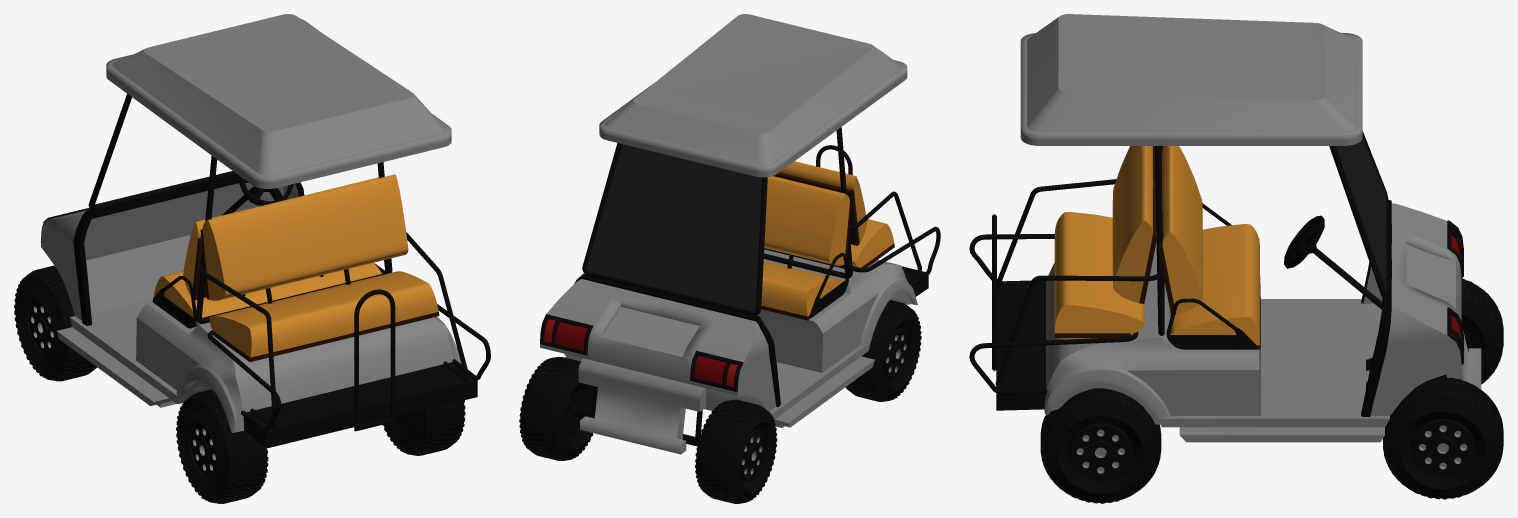
The model's file is Carrito de Golf.FBX.
The picture shows the model from 3 angles, left to right: view 1: azimuth 30°, elevation 25°; view 2: azimuth 150°, elevation 25°; view 3: azimuth 270°, elevation 25°; orthographic projection. The views are drawn at different scales.
Parts seen in each view (by area): view 1: car body, car roof, seat1, back wheels, frame, left wheel, seat, golf car, helm; view 2: car body, car roof, Plane012, seat, left wheel, right wheel, frame, back wheels, seat1, lights frame, lights1, golf car (+1 smaller); view 3: car body, car roof, seat1, seat, right wheel, back wheels, frame, Plane012, left wheel, golf car, helm, lights frame.
Part boxes in pixels (x1,y1,x2,y2): car body: [41, 176, 477, 448]; car roof: [106, 14, 451, 188]; seat1: [200, 174, 439, 361]; back wheels: [176, 389, 465, 503]; frame: [88, 94, 490, 431]; left wheel: [14, 265, 96, 381]; seat: [152, 177, 382, 326]; golf car: [152, 260, 386, 328]; helm: [222, 175, 293, 215]; car body: [540, 249, 928, 454]; car roof: [599, 14, 907, 177]; Plane012: [586, 144, 762, 311]; seat: [761, 176, 851, 320]; left wheel: [695, 399, 777, 503]; right wheel: [519, 357, 593, 460]; frame: [582, 127, 940, 315]; back wheels: [845, 300, 921, 401]; seat1: [773, 161, 894, 268]; lights frame: [540, 314, 743, 392]; lights1: [555, 322, 726, 383]; golf car: [809, 253, 848, 317]; car body: [996, 200, 1481, 442]; car roof: [1020, 14, 1362, 145]; seat1: [1054, 146, 1157, 337]; seat: [1158, 146, 1260, 349]; right wheel: [1383, 376, 1503, 499]; back wheels: [1040, 388, 1161, 503]; frame: [969, 131, 1388, 394]; Plane012: [1336, 138, 1386, 289]; left wheel: [1461, 278, 1503, 384]; golf car: [1166, 203, 1256, 349]; helm: [1284, 215, 1446, 377]; lights frame: [1447, 220, 1463, 364].
Bounding box in the file's own units: 50.04 × 67.6 × 83.07.
